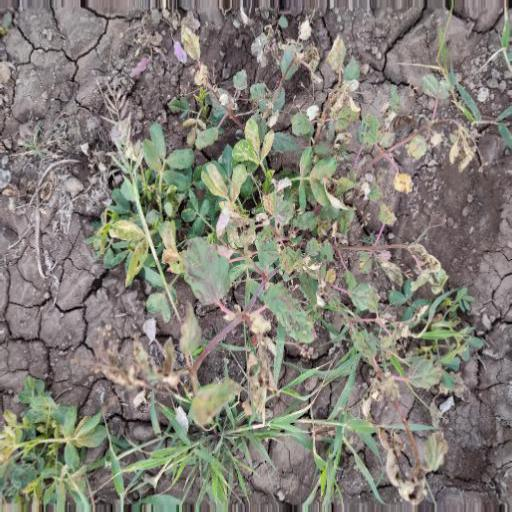weed: (51, 15, 487, 486)
